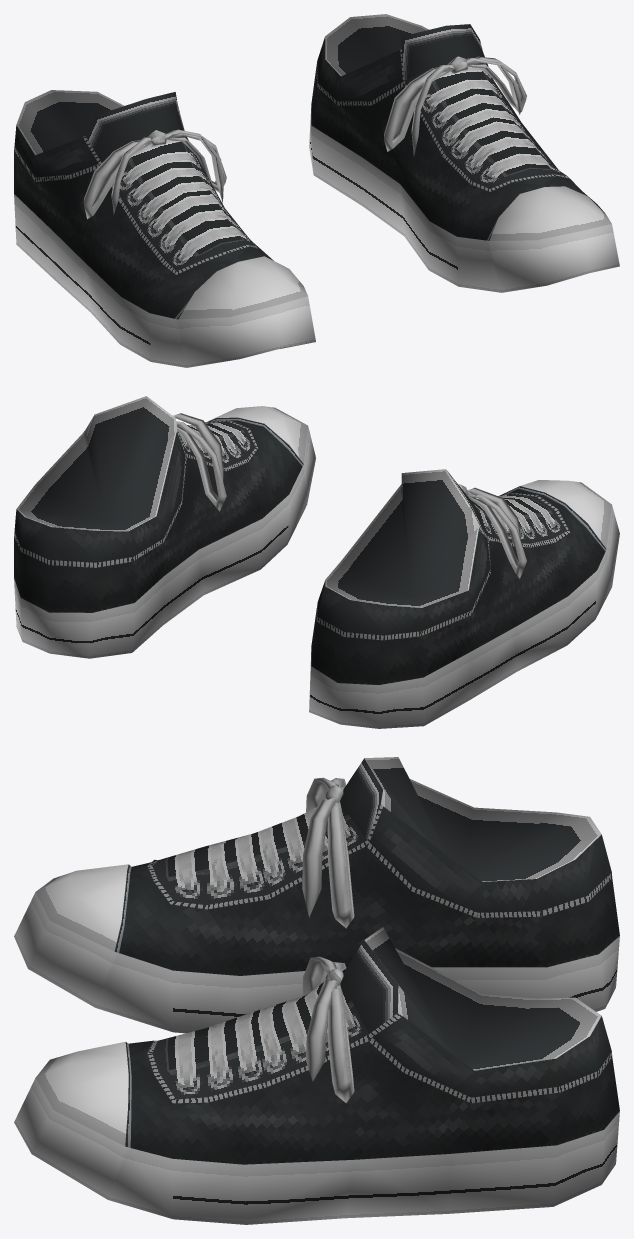
File: male_sneakers1.glb
3 views of the same model, one above another, from view 1: azimuth 30°, elevation 25°; view 2: azimuth 150°, elevation 25°; view 3: azimuth 270°, elevation 25° (orthographic). The views are drawn at different scales.
Visible parts, largest first — view 1: node_id286; view 2: node_id286; view 3: node_id286.
Part boxes in pixels (box(x1,y1,x2,y2)): node_id286: box(14, 14, 619, 367); node_id286: box(14, 396, 619, 728); node_id286: box(14, 757, 619, 1224).
Size of the model in its own units: 0.512 by 0.2112 by 0.4828.
1 material, 1 textured.
